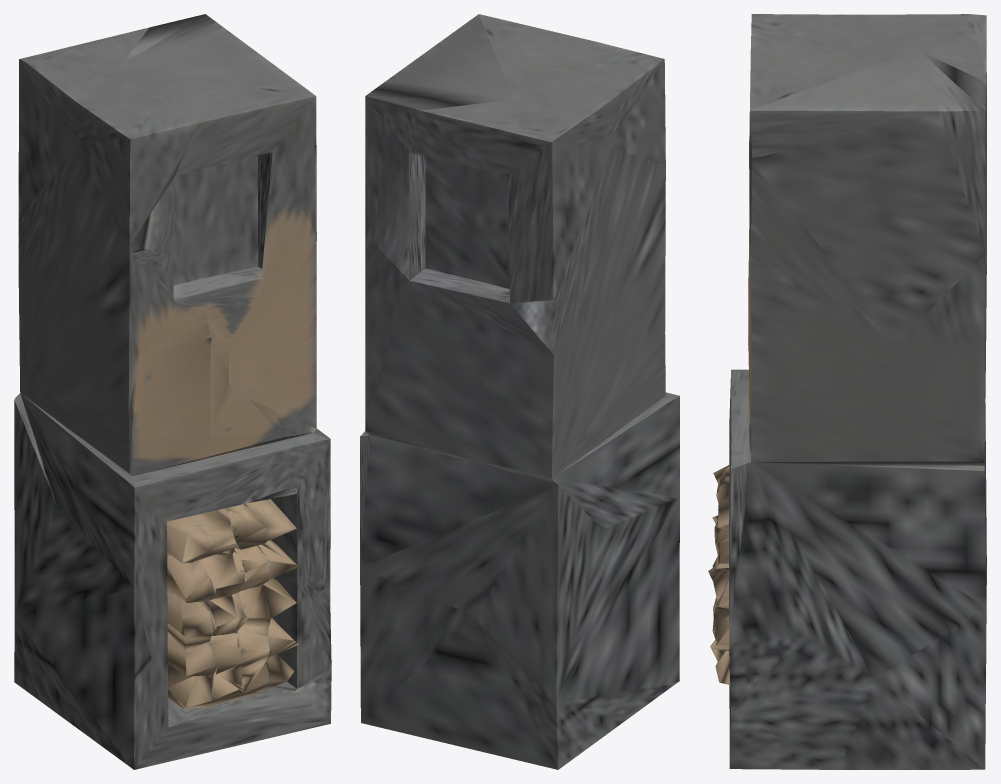
Rendered from cover_full_plains_v1_lod1.glb.
The picture shows the model from 3 angles, left to right: view 1: azimuth 30°, elevation 25°; view 2: azimuth 150°, elevation 25°; view 3: azimuth 270°, elevation 25°; orthographic projection. The views are drawn at different scales.
Size of the model in its own units: 0.6112 by 1.85 by 0.7099.
1 material, 1 textured.
